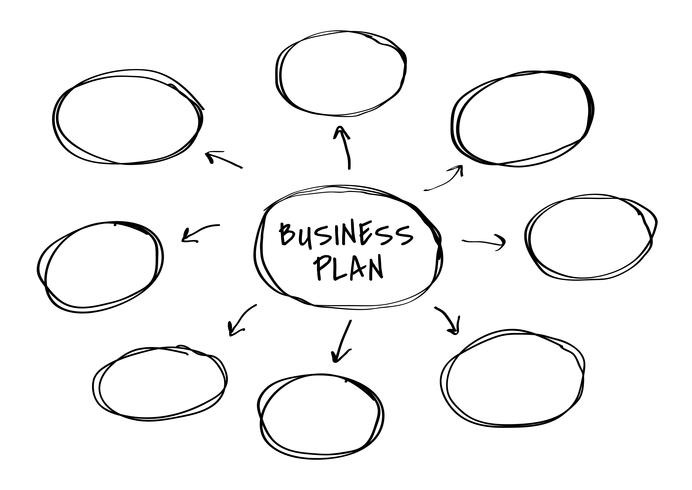circle: (250, 181, 446, 312), (50, 65, 206, 171), (436, 326, 587, 431), (447, 67, 597, 172), (522, 191, 660, 285), (34, 218, 166, 315), (274, 26, 409, 119), (253, 371, 388, 463), (90, 341, 230, 425)
line: (422, 161, 464, 194), (224, 300, 259, 339), (328, 314, 354, 364), (332, 123, 355, 174), (429, 304, 462, 339), (460, 231, 507, 255), (203, 148, 246, 174), (179, 221, 222, 247)
